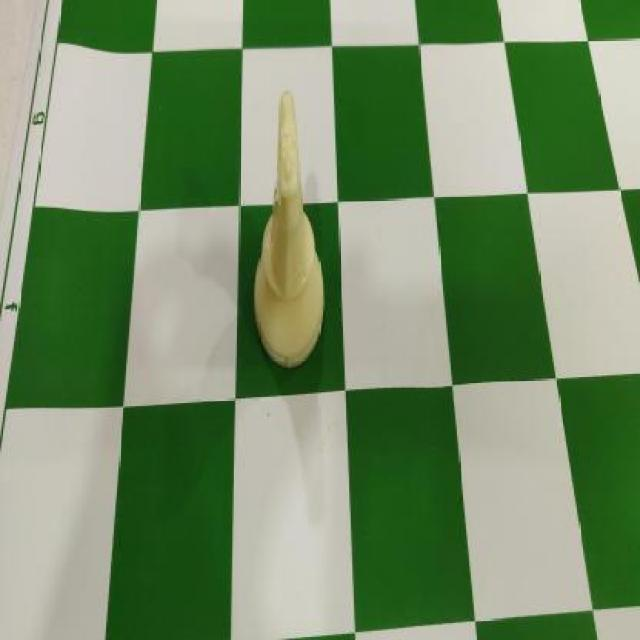white-knight: (250, 90, 328, 370)
